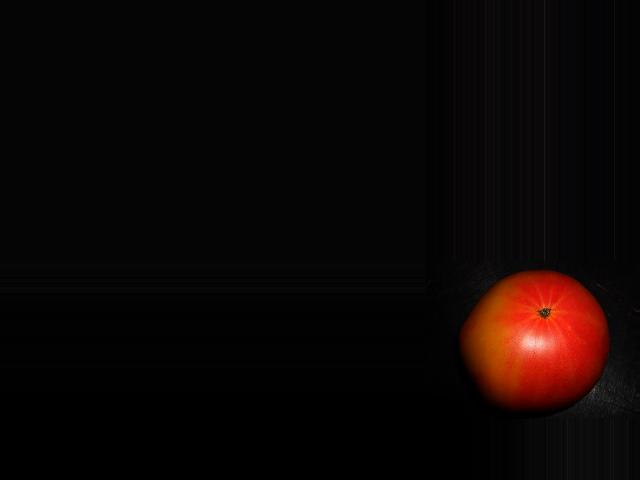tomato: (459, 270, 609, 414)
